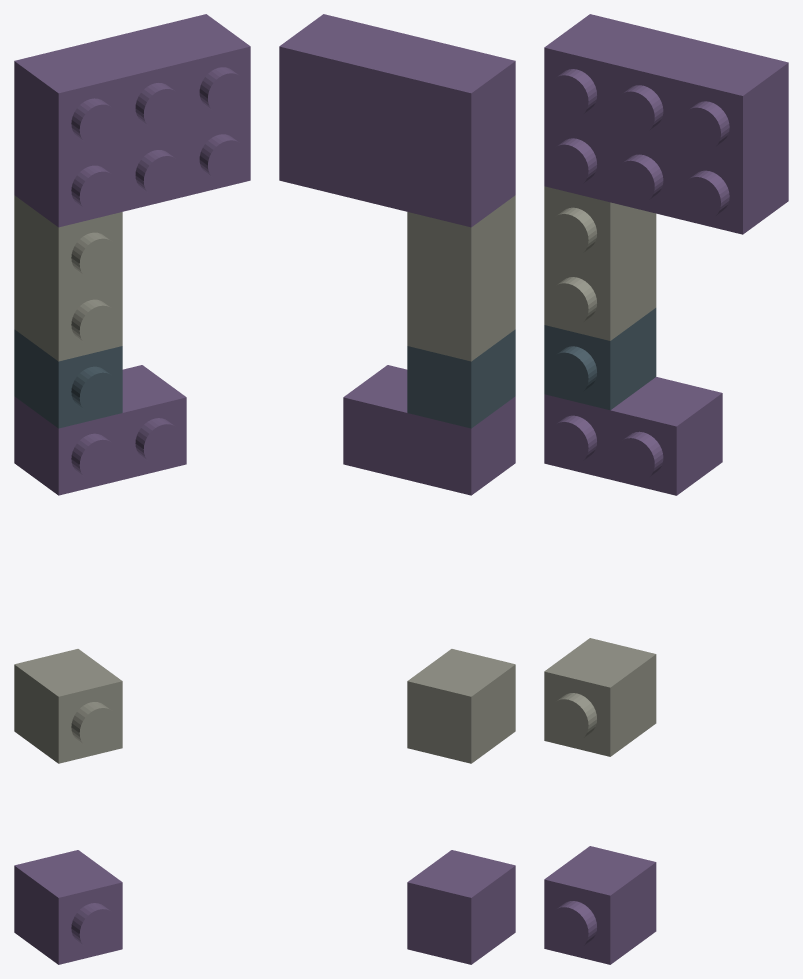
File: current.glb
3 renders of one model, left to right at view 1: azimuth 30°, elevation 25°; view 2: azimuth 150°, elevation 25°; view 3: azimuth 330°, elevation 25°, orthographic. The views are drawn at different scales.
Parts seen in each view (by area): view 1: world; view 2: world; view 3: world.
Boxes of the visible parts, <box> form: world: <box>14,14,250,964</box>; world: <box>279,14,515,964</box>; world: <box>544,14,788,964</box>.
Size of the model in its own units: 24 by 104 by 11.4.
